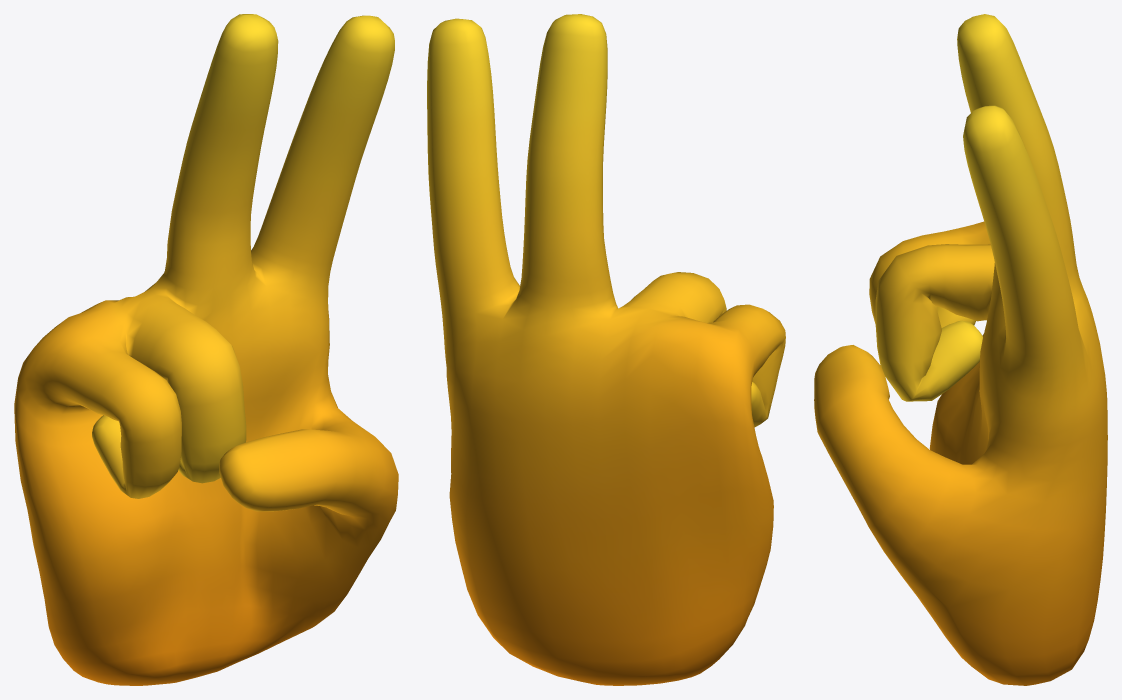
File: victory_hand.glb
3 renders of one model, left to right at view 1: azimuth 30°, elevation 25°; view 2: azimuth 150°, elevation 25°; view 3: azimuth 270°, elevation 25°, orthographic. The views are drawn at different scales.
Parts seen in each view (by area): view 1: hand.005; view 2: hand.005; view 3: hand.005.
Boxes of the visible parts, x1,y1,x2,y2 form: hand.005: [14, 14, 398, 685]; hand.005: [427, 14, 785, 685]; hand.005: [814, 14, 1107, 685].
Size of the model in its own units: 1.14 by 2.02 by 0.8192.
Materials: 2 (2 with a texture image).
